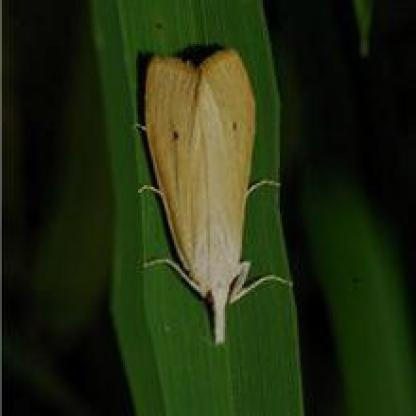stem-borer: (133, 46, 295, 348)
